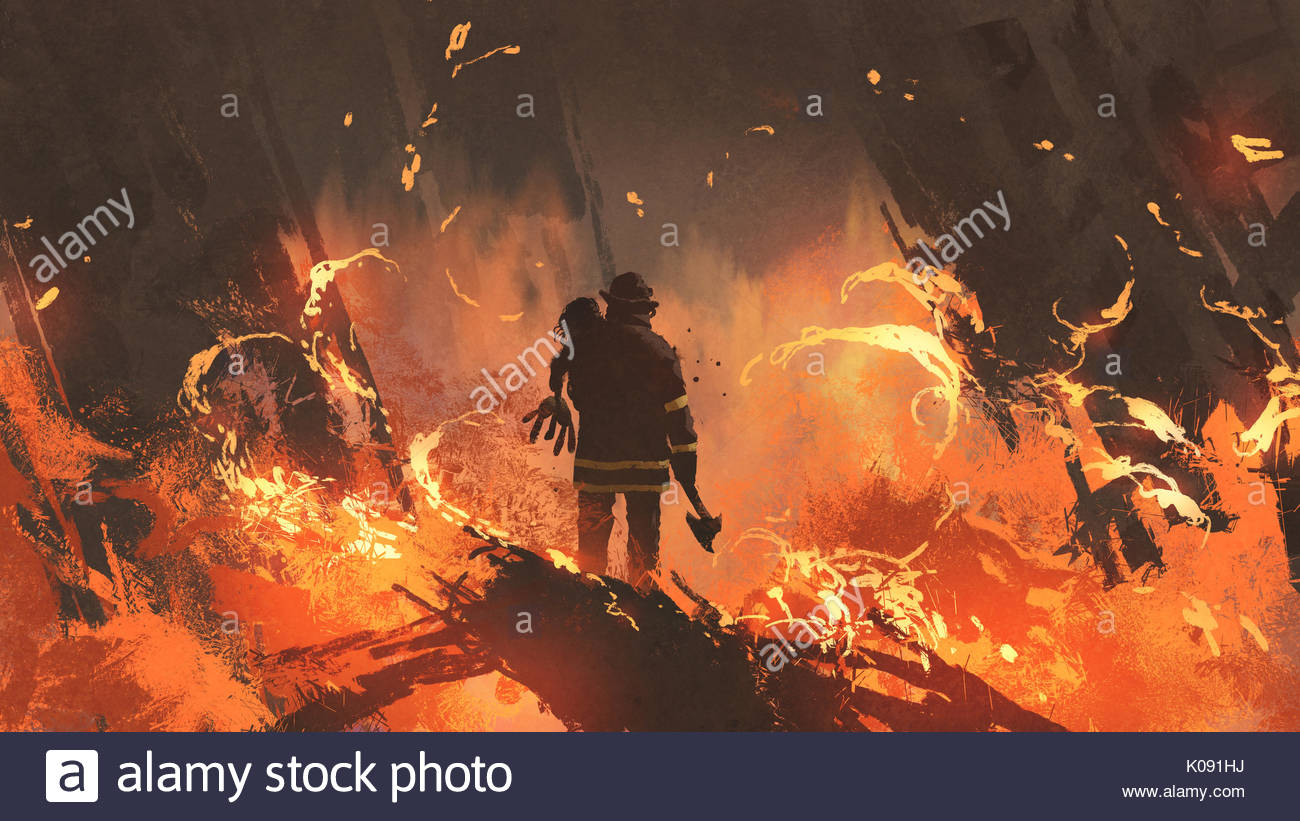Fire: (161, 514, 457, 620)
